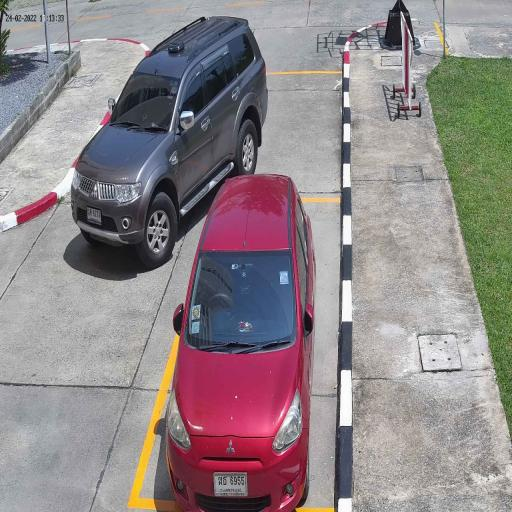car: (164, 170, 317, 512), (70, 14, 269, 268)
